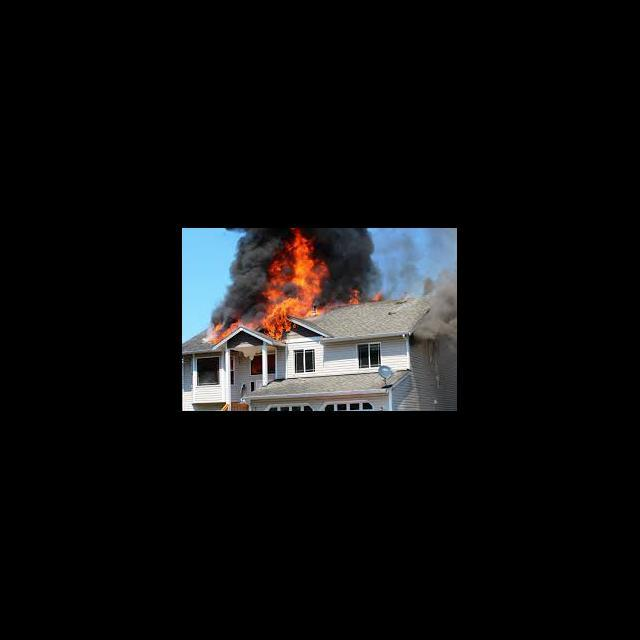Fire: (260, 228, 328, 340), (207, 316, 259, 346), (346, 286, 362, 306), (372, 286, 384, 302)
Smoke: (212, 228, 260, 316), (399, 228, 456, 298), (331, 230, 384, 286), (411, 296, 456, 344)
